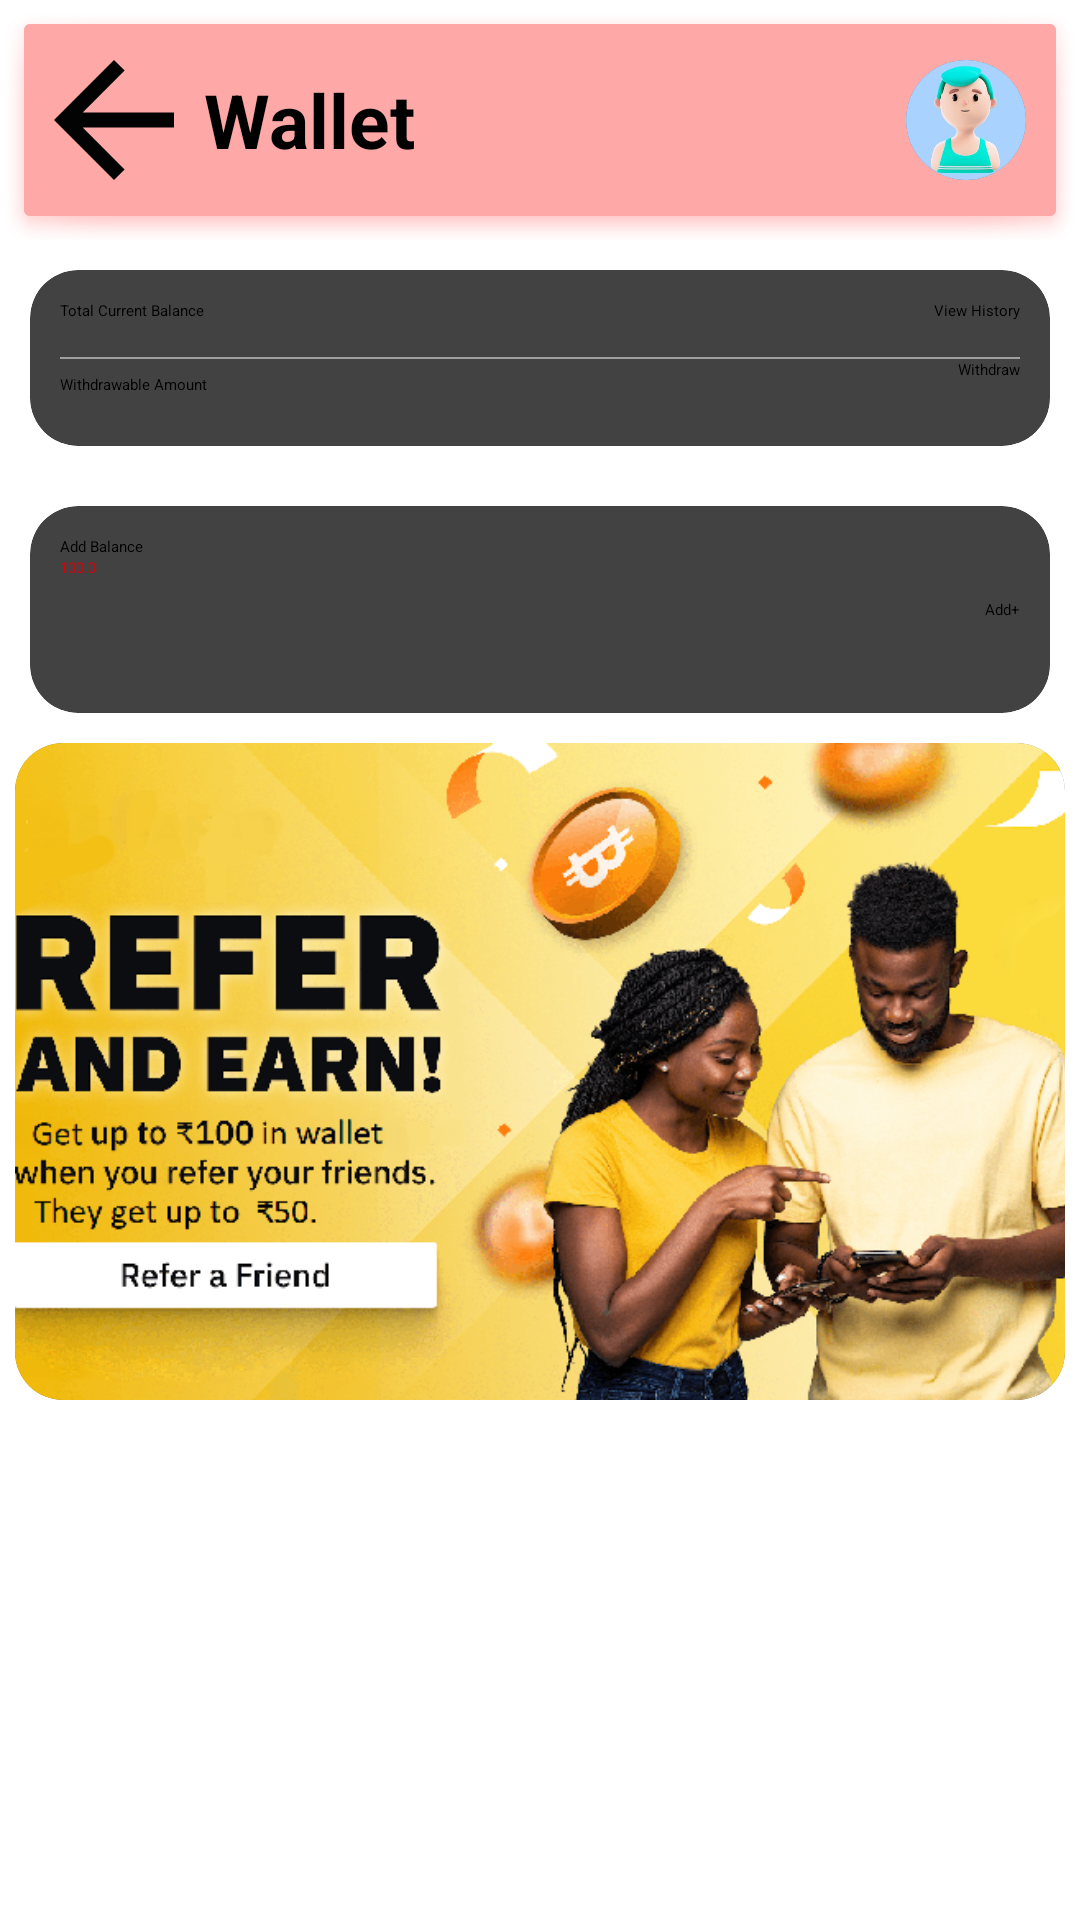

Locate icon controls on the screen. Image size 1080 x 1920, boxes as (x1, y1, x2, y2).
Back Button: (54, 60, 174, 180)
Profile: (906, 60, 1026, 180)
